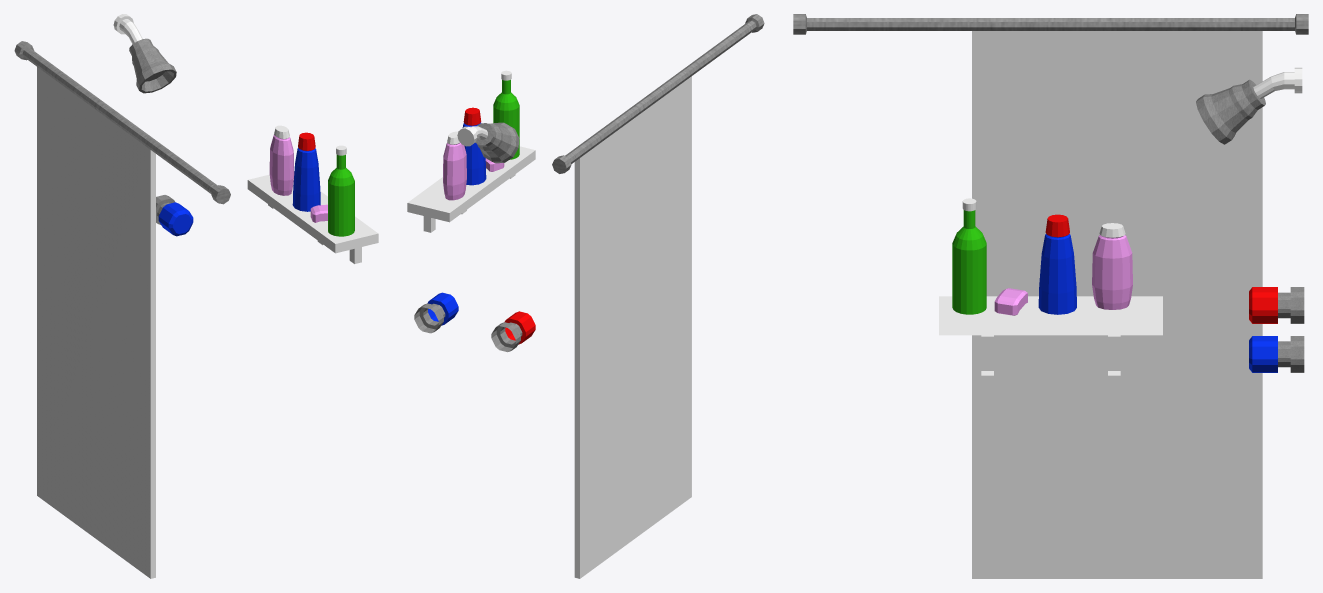
File: Shower.fbx
The picture shows the model from 3 angles, left to right: view 1: azimuth 30°, elevation 25°; view 2: azimuth 150°, elevation 25°; view 3: azimuth 270°, elevation 25°; orthographic projection. The views are drawn at different scales.
Parts seen in each view (by area): view 1: pCube1, uhhh_stick, stand, condiotioner, shampoo, showerhead, soap, hotcold_shower, showerneck; view 2: pCube1, uhhh_stick, stand, hotcold_shower, soap, showerhead, condiotioner, shampoo, showerneck; view 3: pCube1, stand, uhhh_stick, hotcold_shower, condiotioner, shampoo, soap, showerhead, showerneck, barosoap.
Boxes of the visible parts, x1,y1,x2,y2 form: pCube1: (37,67,155,578); uhhh_stick: (14,41,230,204); stand: (247,174,378,263); condiotioner: (328,145,354,236); shampoo: (292,132,320,211); showerhead: (129,38,176,93); soap: (269,125,294,195); hotcold_shower: (156,195,193,236); showerneck: (113,14,142,44); pCube1: (574,76,691,578); uhhh_stick: (552,14,764,173); stand: (407,146,535,232); hotcold_shower: (414,292,535,352); soap: (443,131,466,200); showerhead: (475,122,519,163); condiotioner: (493,70,519,159); shampoo: (462,107,486,185); showerneck: (457,126,487,146); pCube1: (972,31,1262,578); stand: (939,296,1162,375); uhhh_stick: (793,14,1308,34); hotcold_shower: (1249,287,1304,372); condiotioner: (952,198,986,314); shampoo: (1038,214,1076,314); soap: (1092,223,1132,309); showerhead: (1196,79,1265,144); showerneck: (1253,67,1302,98); barosoap: (994,288,1027,315).
Size of the model in its own units: 1.06 by 2.06 by 1.69.
